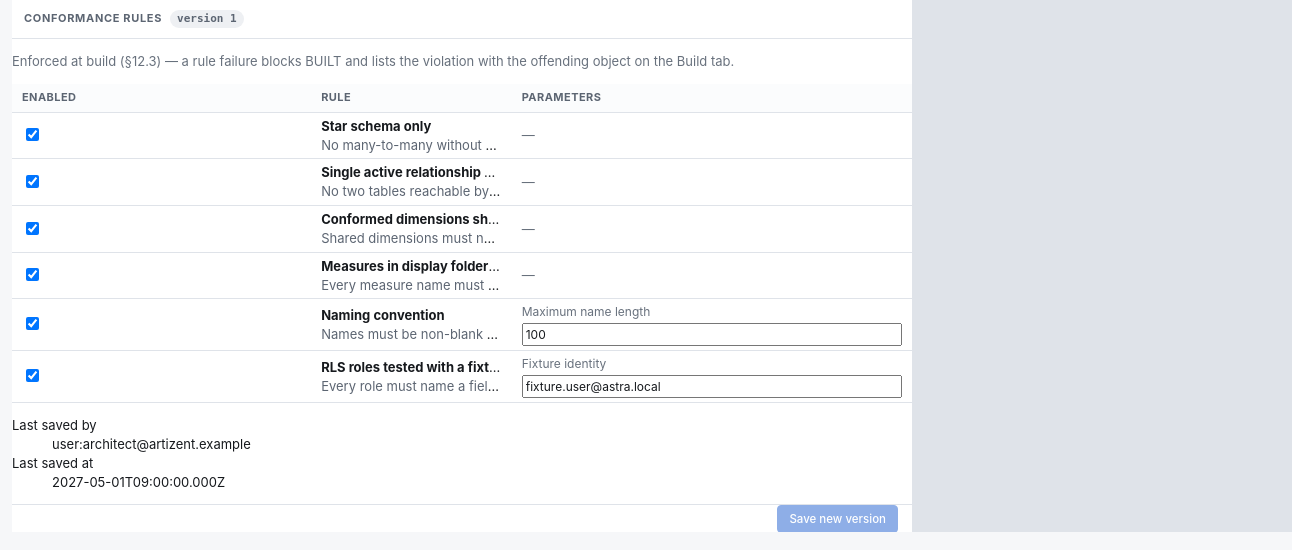
Scenario: editing and saving › lets the architect disable a rule and save a new version
The width and height of the screenshot is (1292, 550).
Click the checkbox named "Enable Star schema only" at (32, 135), box [26,128,39,141]
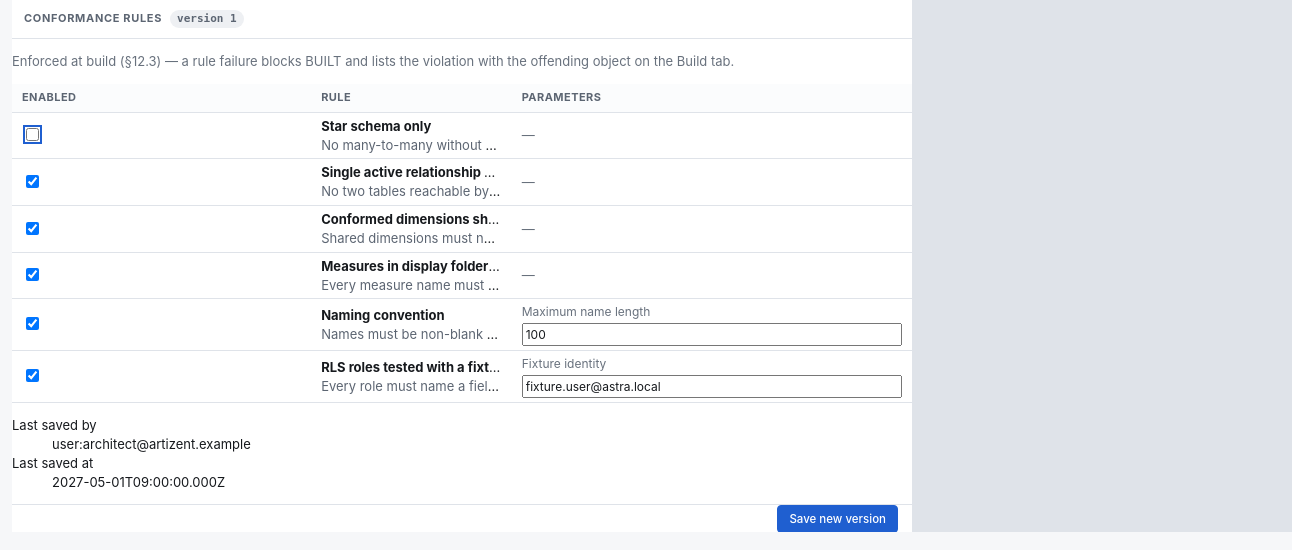
Click the button "Save new version" at (838, 519), box [777,505,898,533]
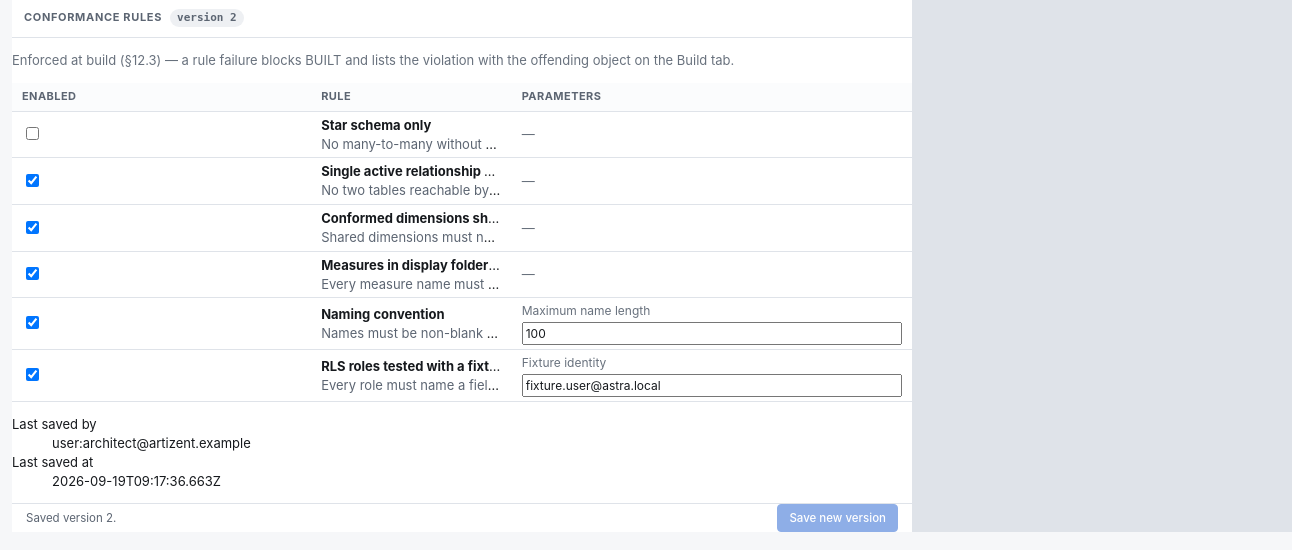
Check: the text "Saved version 2." is shown, box [26,510,116,526]
Check: the text "version 2" is shown, box [170,9,244,27]
